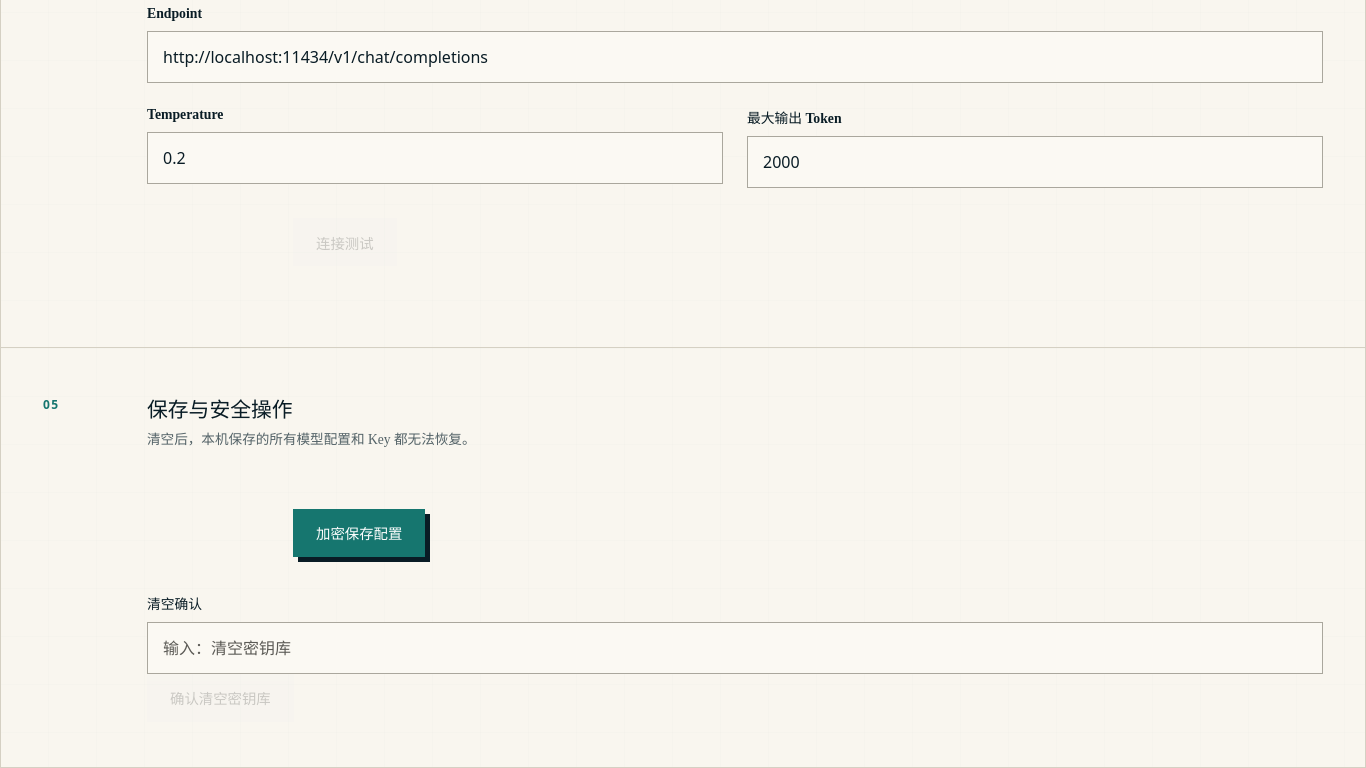
Test: AiAgentSettingsPage › requires the exact confirmation phrase before clearing
(page scrolled)
Check: the button "确认清空密钥库" is disabled, box [147,674,294,722]
In the field labelled "清空确认": {"x": 735, "y": 648} [147,622,1323,674], type "清空密钥库"
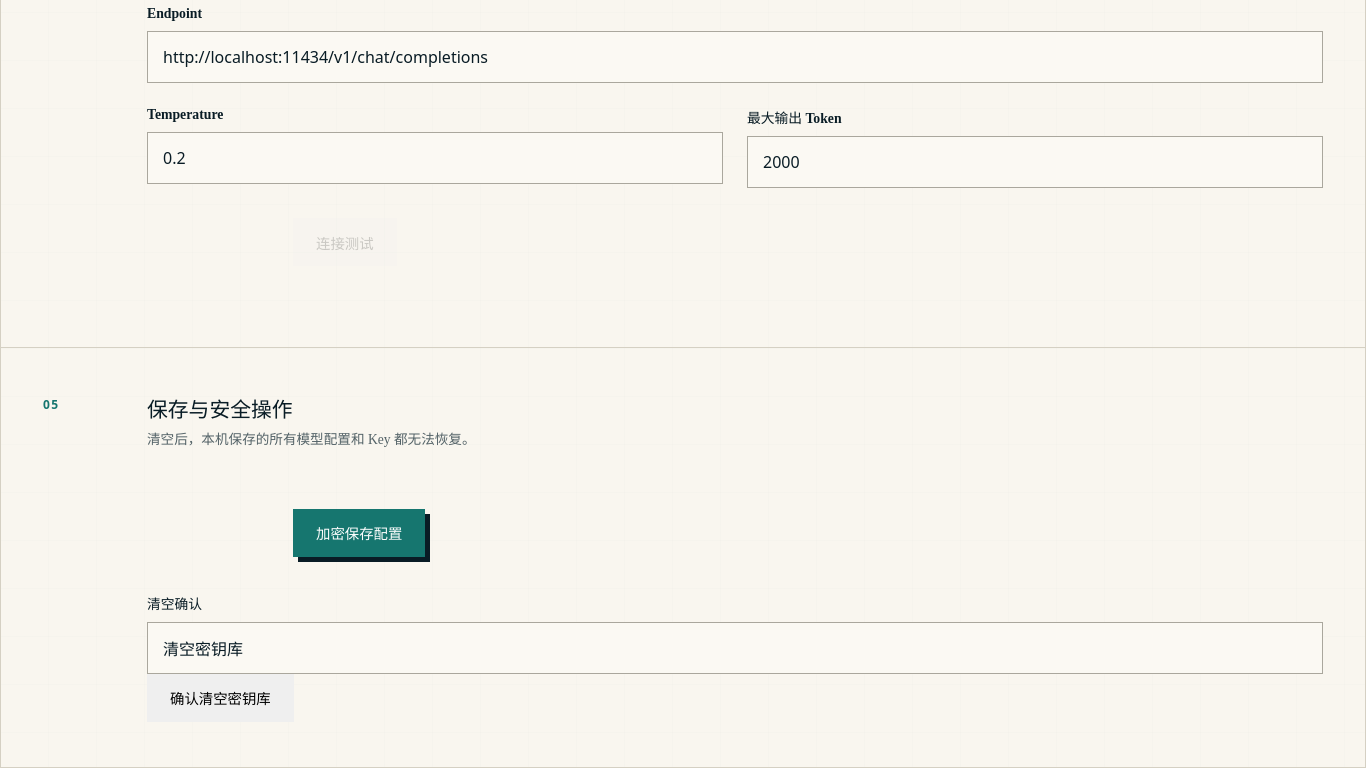
Check: the button "确认清空密钥库" is enabled, box [147,674,294,722]
